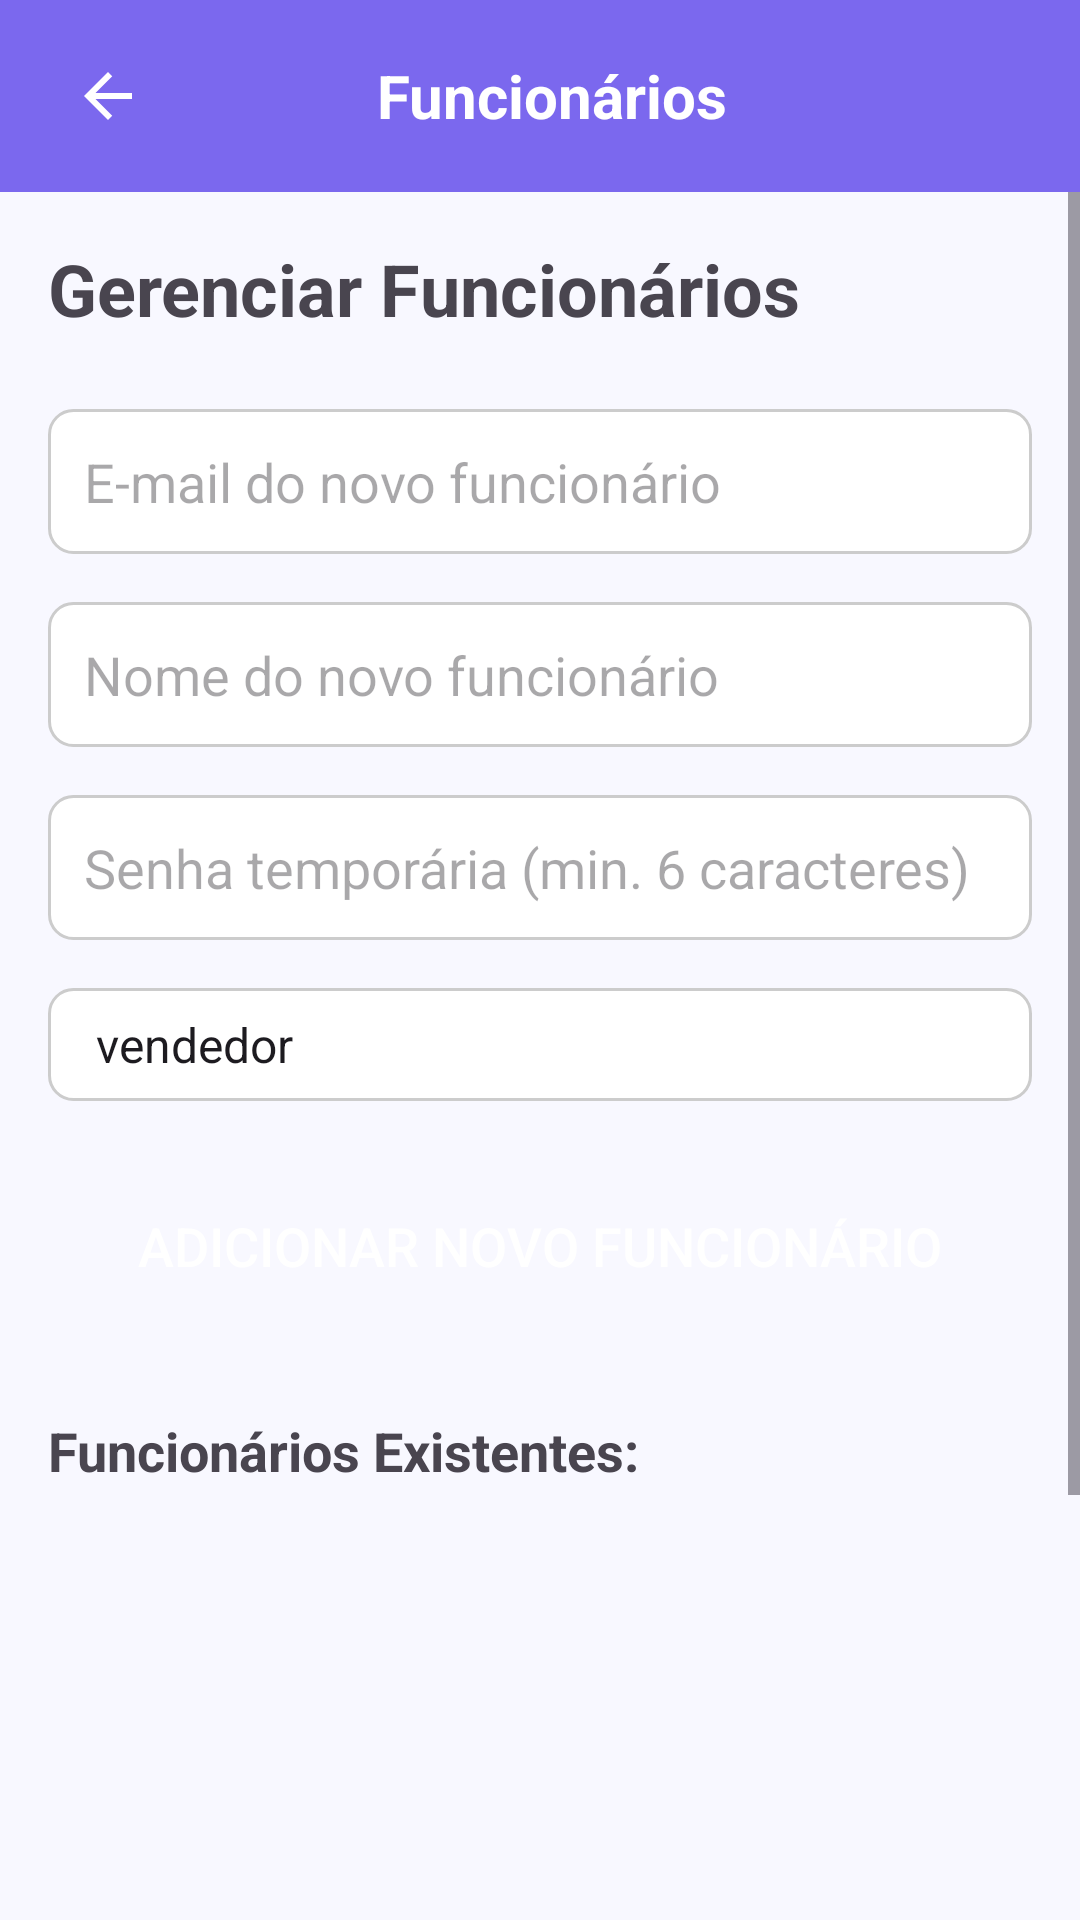

Screen size 1080*1920. Icon name, then its center in pixels as (x,y):
Voltar: (108,96)
